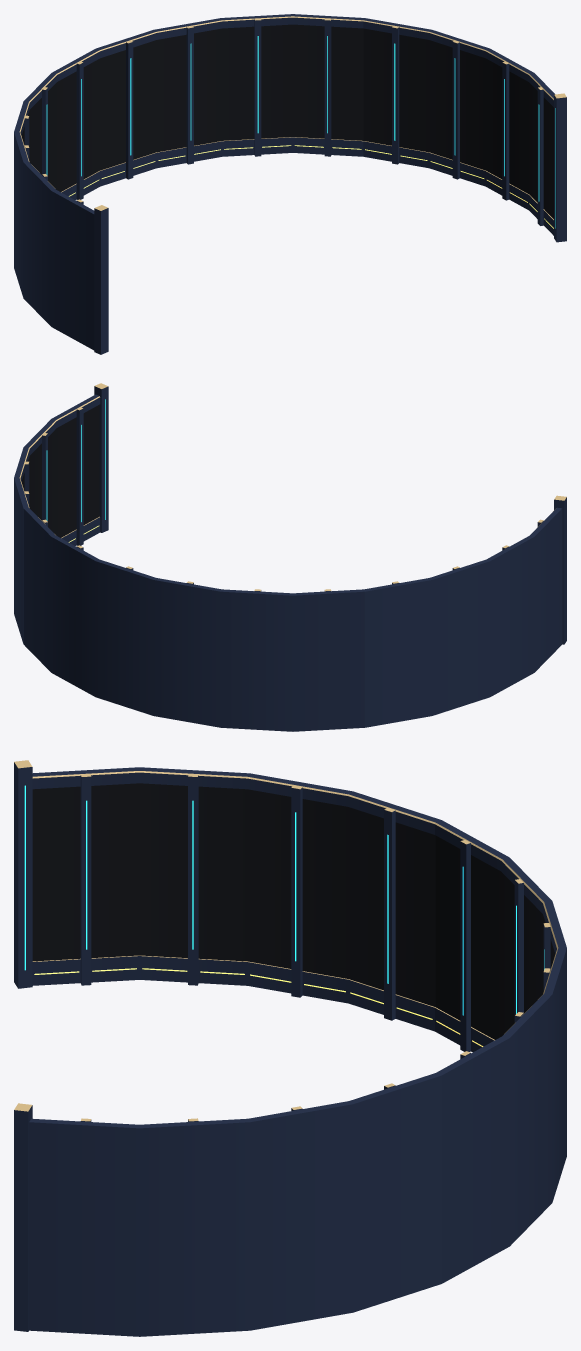
The model's file is environment.glb.
3 renders of one model, top to bottom at view 1: azimuth 30°, elevation 25°; view 2: azimuth 150°, elevation 25°; view 3: azimuth 270°, elevation 25°, orthographic. The views are drawn at different scales.
Visible parts, largest first — view 1: ArenaBackground_Rear, ArenaBackground_Right, ArenaBackground_Supports, ArenaBackground_Left, ArenaBackground_LED; view 2: ArenaBackground_Rear, ArenaBackground_Left, ArenaBackground_Right, ArenaBackground_Supports; view 3: ArenaBackground_Right, ArenaBackground_Left, ArenaBackground_Rear, ArenaBackground_Supports, ArenaBackground_LED.
Part boxes in pixels (x1=…): ArenaBackground_Rear: x1=24, y1=14, x2=364, y2=199; ArenaBackground_Right: x1=363, y1=18, x2=554, y2=235; ArenaBackground_Supports: x1=24, y1=18, x2=566, y2=354; ArenaBackground_Left: x1=14, y1=101, x2=94, y2=350; ArenaBackground_LED: x1=46, y1=36, x2=555, y2=228; ArenaBackground_Rear: x1=23, y1=507, x2=364, y2=731; ArenaBackground_Left: x1=364, y1=507, x2=562, y2=727; ArenaBackground_Right: x1=14, y1=394, x2=100, y2=643; ArenaBackground_Supports: x1=24, y1=383, x2=566, y2=644; ArenaBackground_Right: x1=29, y1=1073, x2=441, y2=1336; ArenaBackground_Left: x1=32, y1=767, x2=441, y2=1031; ArenaBackground_Rear: x1=435, y1=820, x2=566, y2=1283; ArenaBackground_Supports: x1=14, y1=760, x2=550, y2=1331; ArenaBackground_LED: x1=24, y1=785, x2=544, y2=1046.
Bounding box in the file's own units: 26 × 7.4 × 16.83.
